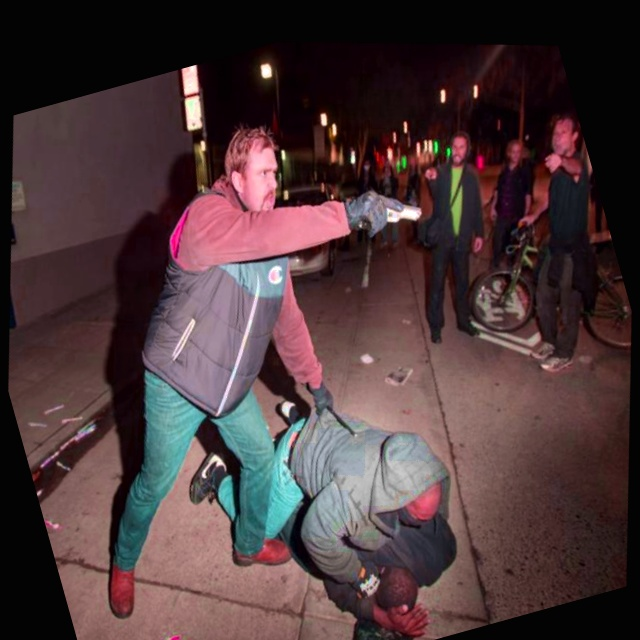gun: (326, 150, 449, 275)
